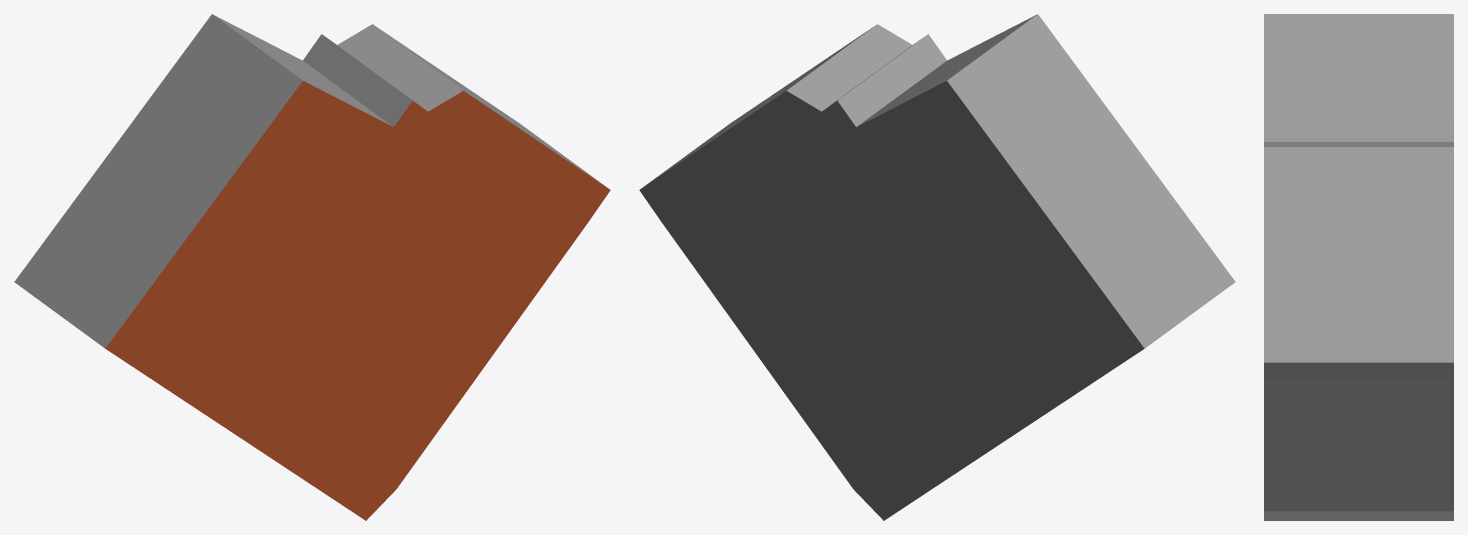
File: construction_1247_assumed_A_Casa_h6m.obj
3 renders of one model, left to right at view 1: azimuth 30°, elevation 25°; view 2: azimuth 150°, elevation 25°; view 3: azimuth 270°, elevation 25°, orthographic. The views are drawn at different scales.
Parts seen in each view (by area): view 1: construction_1247_assumed_A_Casa; view 2: construction_1247_assumed_A_Casa; view 3: construction_1247_assumed_A_Casa.
Boxes of the visible parts, bbox=[...] form: construction_1247_assumed_A_Casa: bbox=[14, 14, 610, 520]; construction_1247_assumed_A_Casa: bbox=[639, 14, 1235, 520]; construction_1247_assumed_A_Casa: bbox=[1264, 14, 1453, 520].
Size of the model in its own units: 19.23 by 16.57 by 6.
